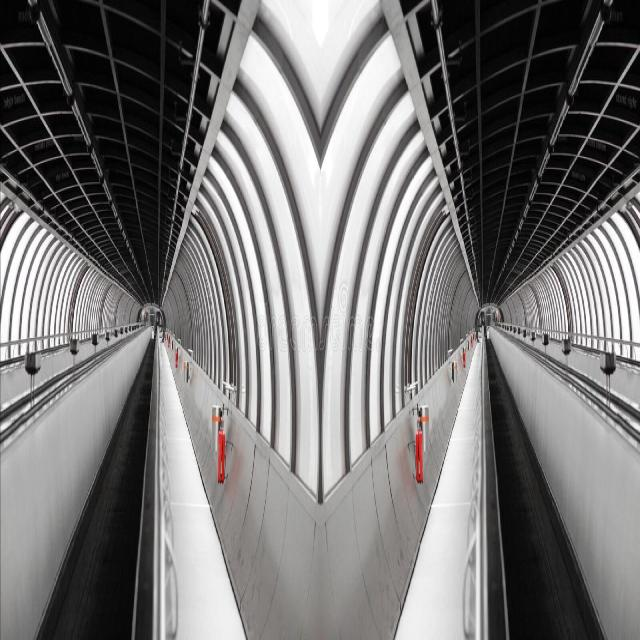fire_extinguisher: (412, 400, 426, 488), (215, 410, 228, 486)
